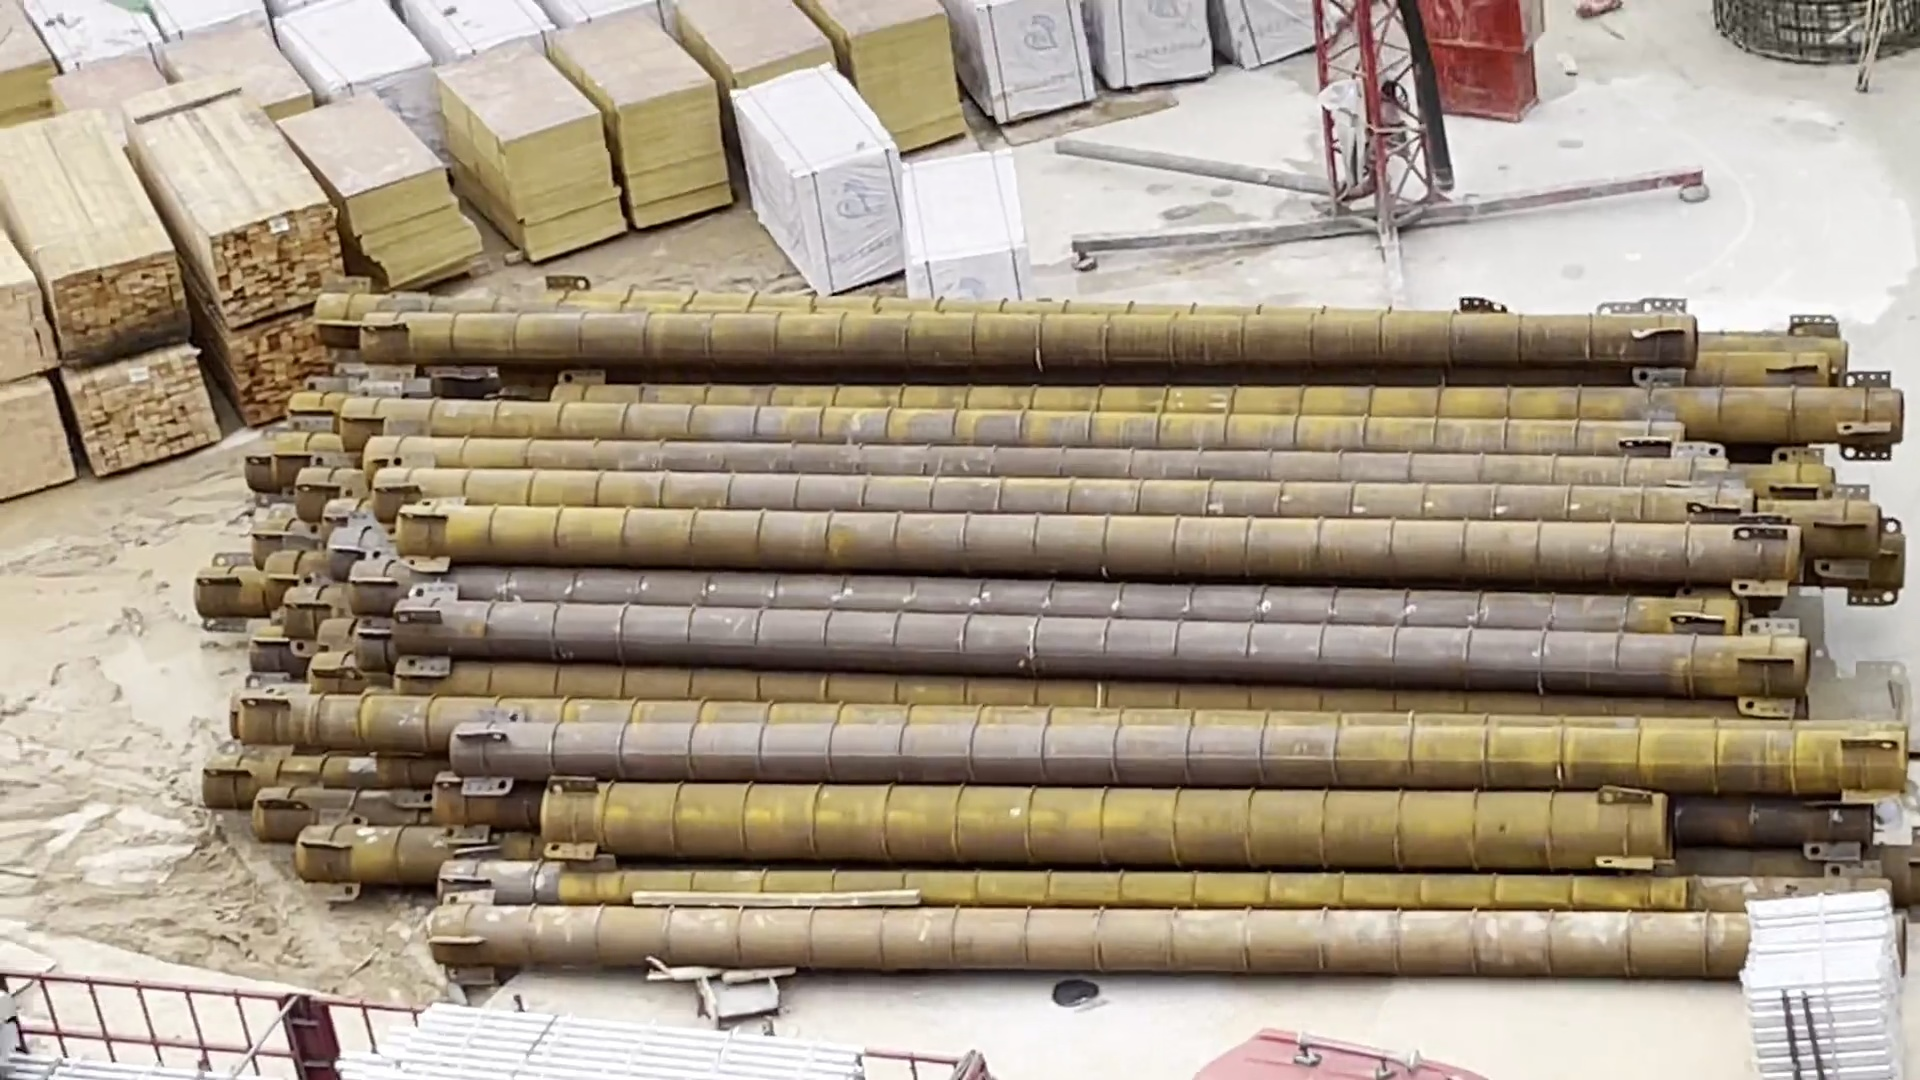board: (334, 4, 1013, 278), (3, 4, 331, 119)
scaffold: (1, 949, 944, 1080), (1735, 876, 1915, 1080)
wood: (1, 100, 233, 518), (127, 78, 344, 419)
